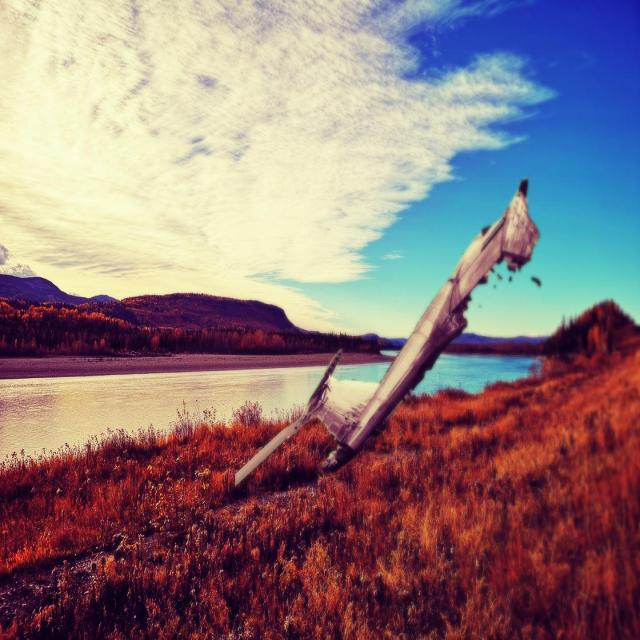airplane: (233, 177, 540, 488)
